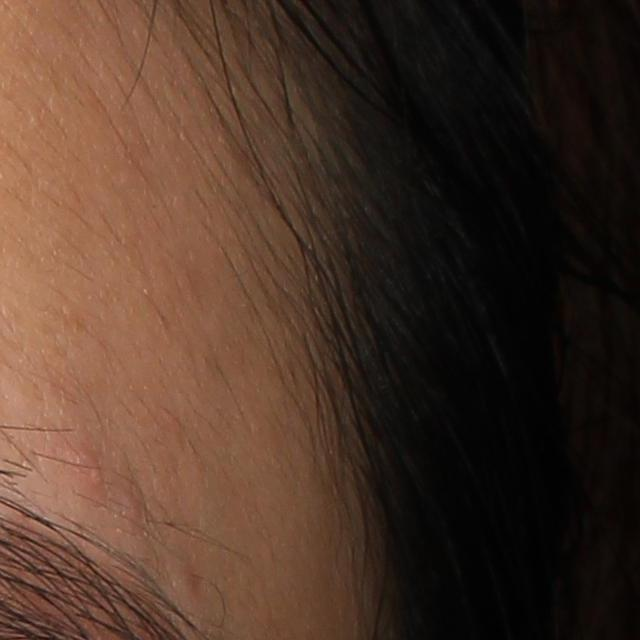papule: (120, 488, 146, 527)
